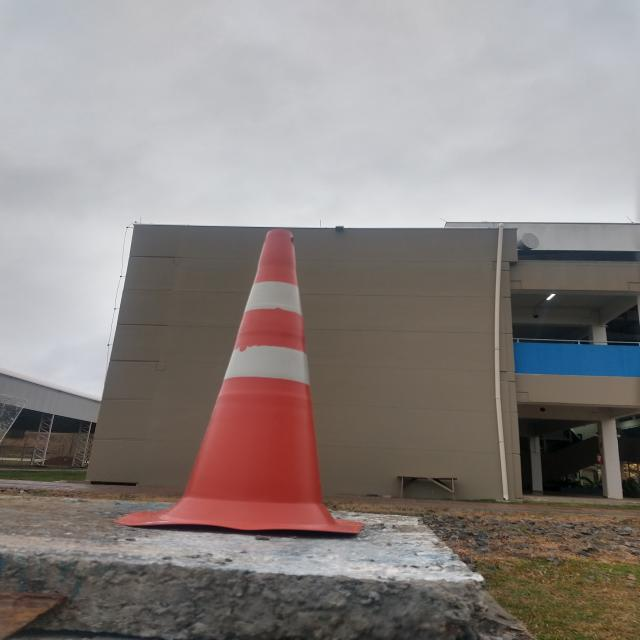Cone: (154, 195, 370, 540)
